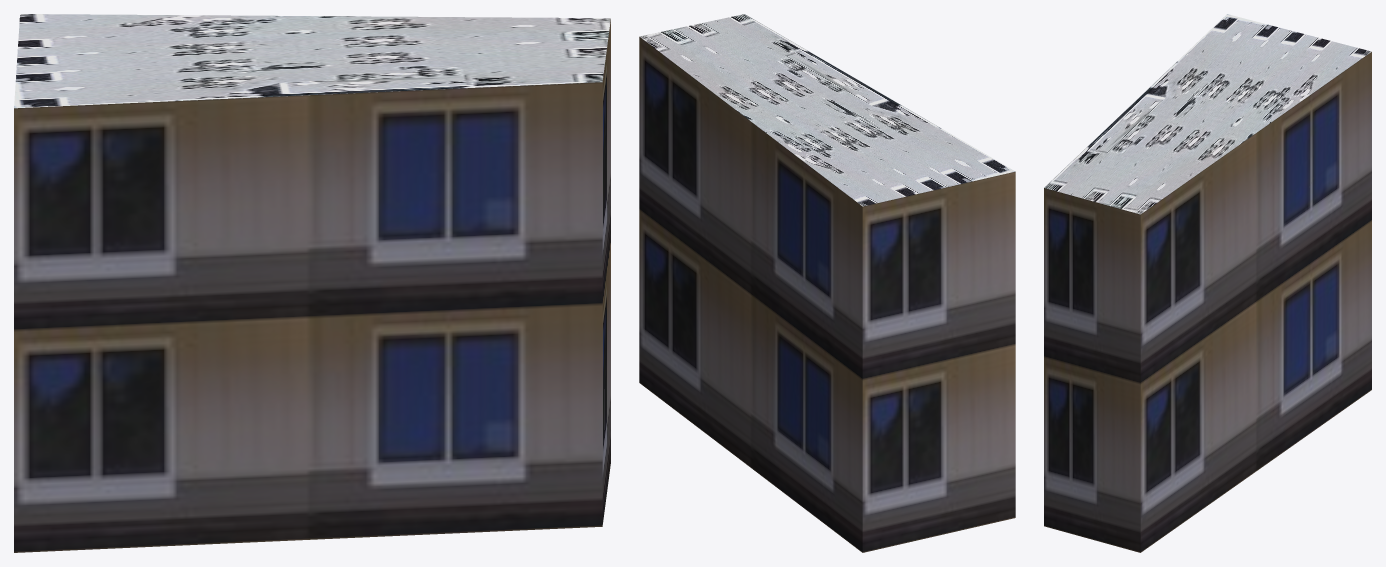
The model's file is ResTex__3736.fbx.
3 renders of one model, left to right at view 1: azimuth 30°, elevation 25°; view 2: azimuth 150°, elevation 25°; view 3: azimuth 270°, elevation 25°, orthographic. The views are drawn at different scales.
Parts seen in each view (by area): view 1: CityEngineMaterial_5_m, CityEngineMaterial_m; view 2: CityEngineMaterial_5_m, CityEngineMaterial_m; view 3: CityEngineMaterial_5_m, CityEngineMaterial_m.
Part boxes in pixels (left/top/right/bottom): CityEngineMaterial_5_m: left=14, top=19, right=610, bottom=552; CityEngineMaterial_m: left=14, top=14, right=610, bottom=108; CityEngineMaterial_5_m: left=639, top=37, right=1015, bottom=552; CityEngineMaterial_m: left=639, top=14, right=1015, bottom=206; CityEngineMaterial_5_m: left=1044, top=52, right=1371, bottom=552; CityEngineMaterial_m: left=1044, top=14, right=1371, bottom=214.
Bounding box in the file's own units: 7.63 × 6 × 5.27.
2 materials, 2 textured.
